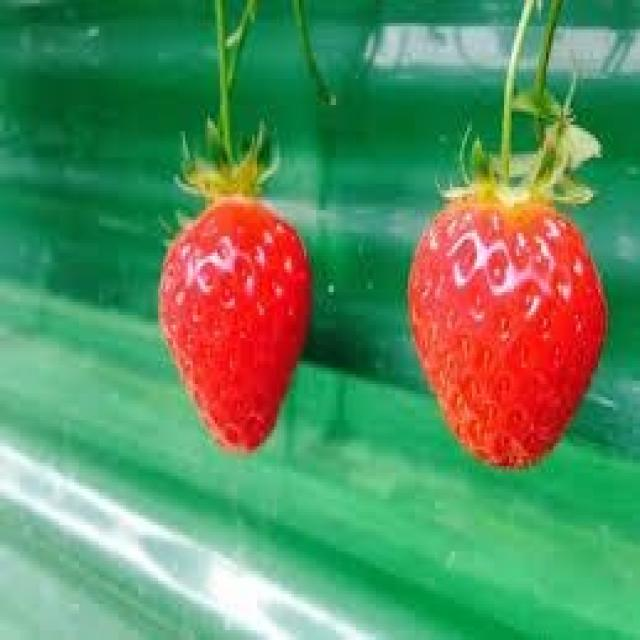mature: (407, 196, 608, 467), (159, 196, 312, 454)
